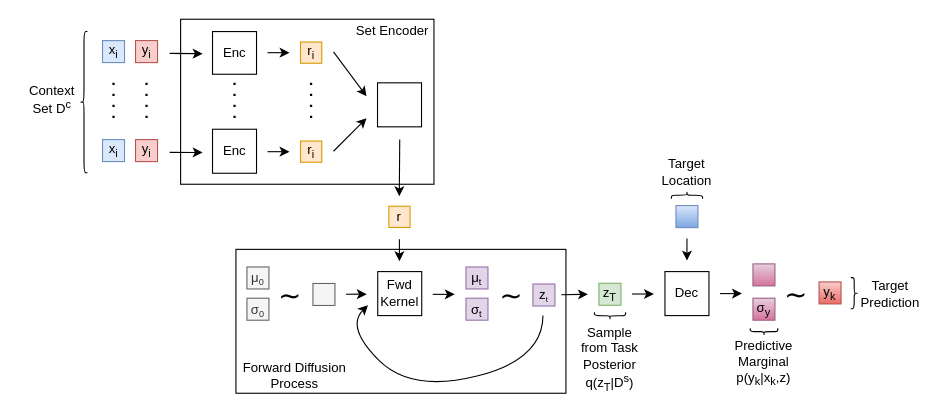
This 938x414 diagram has some shape labels left out. Each missing label, with the box of its shape:
Aggr: (376, 82, 422, 127)
x k: (675, 204, 698, 228)
z 0: (312, 282, 335, 305)
μ y: (752, 263, 775, 286)
